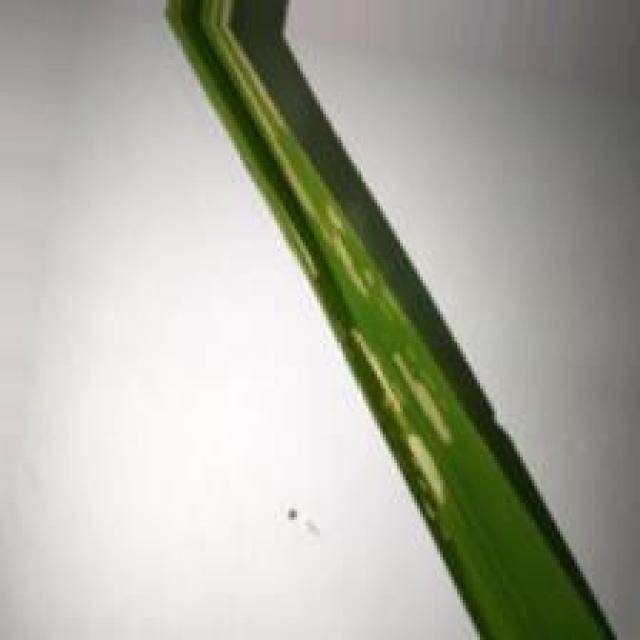Rice_Hispa: (204, 0, 320, 216), (395, 353, 453, 452), (395, 434, 453, 523), (357, 329, 405, 423)
